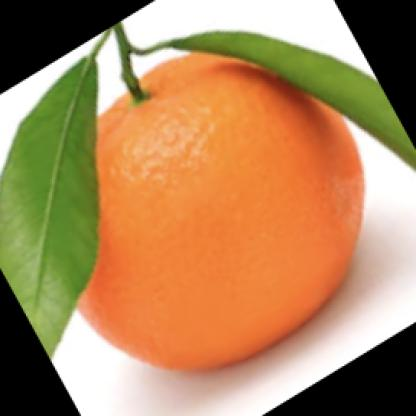fresh: (46, 43, 364, 373)
